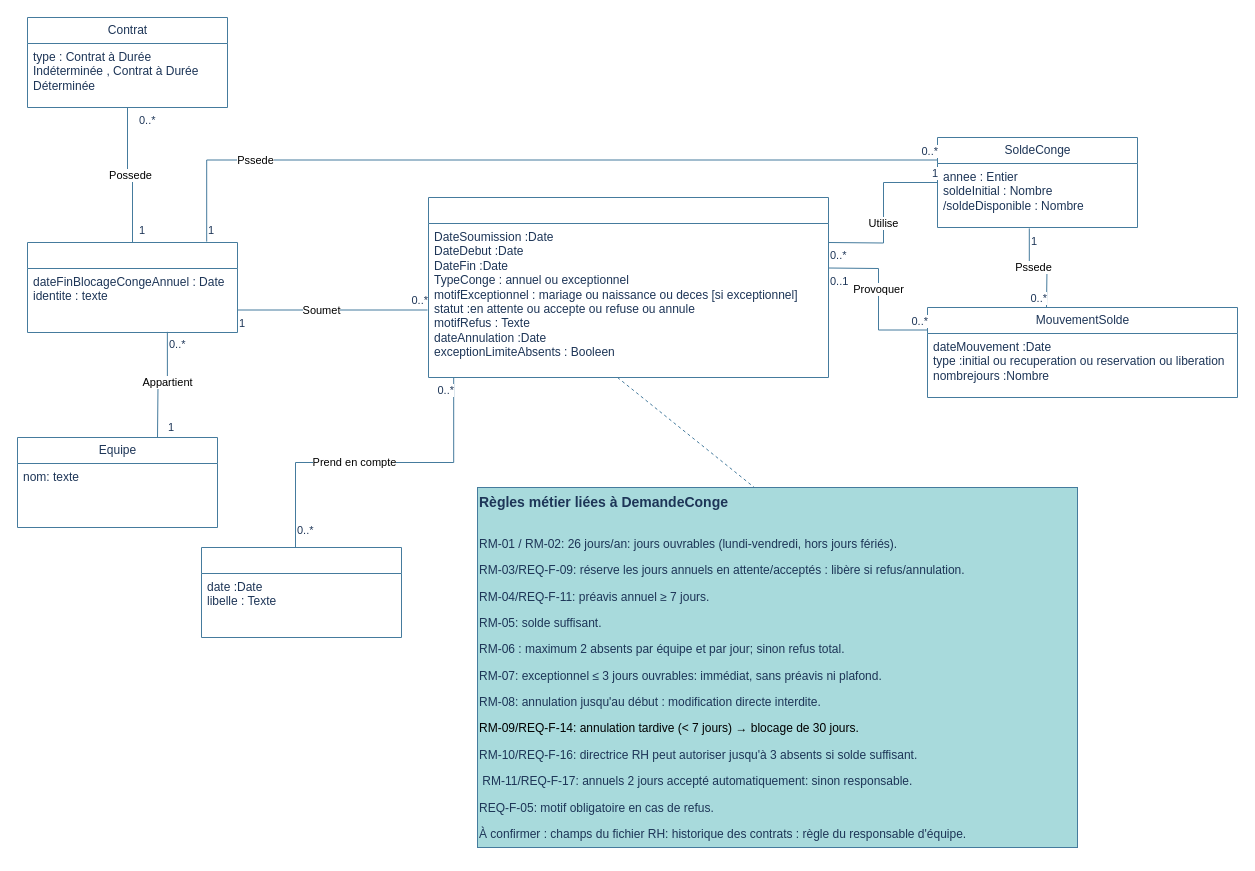
Image size: 1255x871. Some labels were removed from this diagram. The shapes that lost their labels are listed below. From the top down, each one's box as (x1, y1, x2, y2) in pixels, then its label:
(26, 242, 238, 332): Employe
(428, 196, 828, 378): DemandeConge
(200, 546, 402, 638): JourFerie
